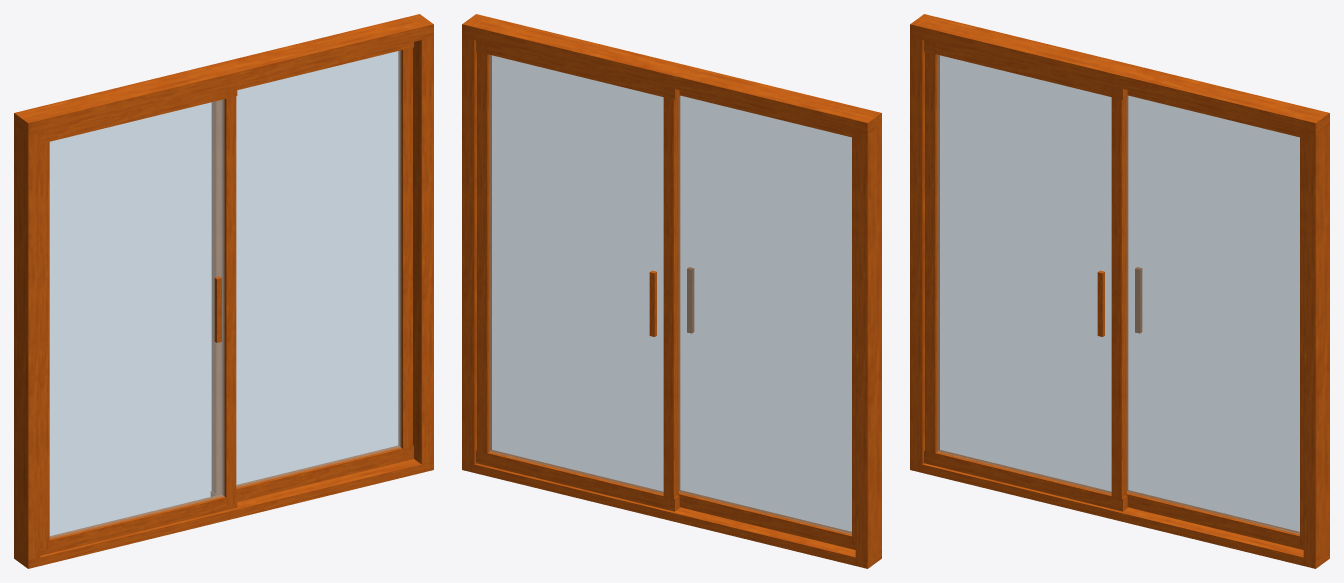
Rendered from Door_SlidingGlass.fbx.
3 views of the same model, side by side, from view 1: azimuth 30°, elevation 25°; view 2: azimuth 150°, elevation 25°; view 3: azimuth 330°, elevation 25° (orthographic).
Parts seen in each view (by area): view 1: Door_SlidingGlass; view 2: Door_SlidingGlass; view 3: Door_SlidingGlass.
Boxes of the visible parts, <box> form: Door_SlidingGlass: <box>14,14,433,568</box>; Door_SlidingGlass: <box>462,14,881,568</box>; Door_SlidingGlass: <box>910,14,1329,568</box>.
Bounding box in the file's own units: 2 × 2.1 × 0.13.
